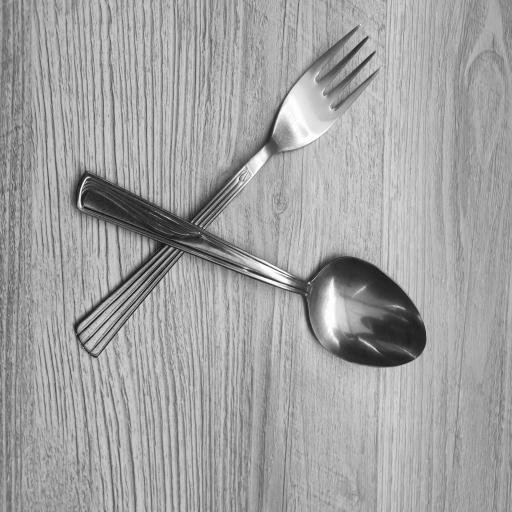fork: (74, 20, 388, 362)
spoon: (69, 164, 427, 368)
